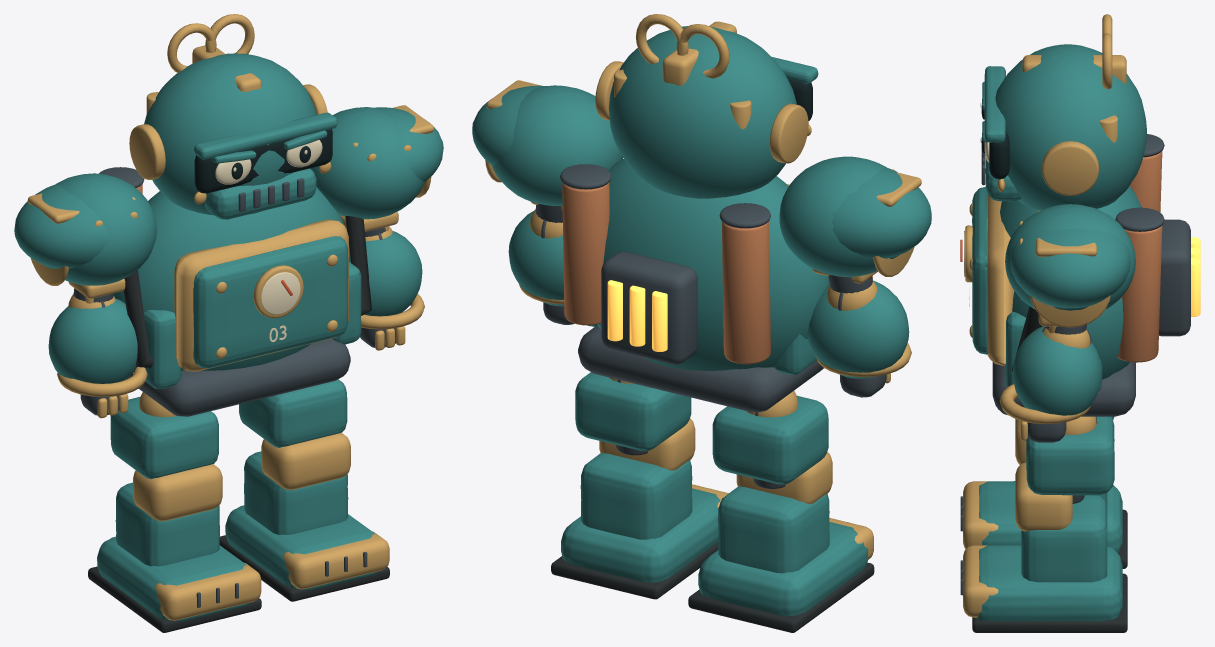
Rendered from boiler_knight.t4.glb.
3 views of the same model, side by side, from view 1: azimuth 30°, elevation 25°; view 2: azimuth 150°, elevation 25°; view 3: azimuth 270°, elevation 25° (orthographic). The views are drawn at different scales.
Parts seen in each view (by area): view 1: slot_torso__clay_petrol_enamel__clay, slot_head__clay_petrol_enamel__clay, slot_legL__clay_petrol_enamel__clay, slot_legR__clay_petrol_enamel__clay, slot_armL__clay_petrol_enamel__clay, slot_armR__clay_petrol_enamel__clay, slot_torso__forged_bluelead_steel__protected, slot_legL__worn_warm_brass__protected, slot_legR__worn_warm_brass__protected, slot_torso__worn_warm_brass__protected, armL_elbow__clay_petrol_enamel__clay, slot_head__worn_warm_brass__protected (+12 smaller); view 2: slot_legL__clay_petrol_enamel__clay, slot_head__clay_petrol_enamel__clay, slot_legR__clay_petrol_enamel__clay, slot_torso__clay_petrol_enamel__clay, slot_torso__forged_bluelead_steel__protected, slot_armL__clay_petrol_enamel__clay, slot_torso__burnished_copper__protected, slot_armR__clay_petrol_enamel__clay, slot_head__worn_warm_brass__protected, armL_elbow__clay_petrol_enamel__clay, armR_elbow__clay_petrol_enamel__clay, slot_legL__worn_warm_brass__protected (+9 smaller); view 3: slot_legR__clay_petrol_enamel__clay, slot_head__clay_petrol_enamel__clay, slot_armR__clay_petrol_enamel__clay, slot_torso__forged_bluelead_steel__protected, slot_torso__clay_petrol_enamel__clay, armR_elbow__clay_petrol_enamel__clay, slot_torso__burnished_copper__protected, slot_head__worn_warm_brass__protected, slot_legR__worn_warm_brass__protected, slot_torso__worn_warm_brass__protected, slot_legL__clay_petrol_enamel__clay, slot_armR__worn_warm_brass__protected (+8 smaller).
Part boxes in pixels (x1,y1,x2,y2): slot_torso__clay_petrol_enamel__clay: (113,187,361,388); slot_head__clay_petrol_enamel__clay: (144,53,337,219); slot_legL__clay_petrol_enamel__clay: (97,396,249,621); slot_legR__clay_petrol_enamel__clay: (225,379,377,590); slot_armL__clay_petrol_enamel__clay: (14,173,156,285); slot_armR__clay_petrol_enamel__clay: (310,107,443,219); slot_torso__forged_bluelead_steel__protected: (99,167,350,416); slot_legL__worn_warm_brass__protected: (133,392,261,620); slot_legR__worn_warm_brass__protected: (261,432,389,589); slot_torso__worn_warm_brass__protected: (174,219,348,371); armL_elbow__clay_petrol_enamel__clay: (48,298,137,383); slot_head__worn_warm_brass__protected: (129,14,331,204); slot_legL__clay_petrol_enamel__clay: (698,395,868,615); slot_head__clay_petrol_enamel__clay: (608,26,818,198); slot_legR__clay_petrol_enamel__clay: (561,372,720,582); slot_torso__clay_petrol_enamel__clay: (587,159,829,374); slot_torso__forged_bluelead_steel__protected: (560,164,823,412); slot_armL__clay_petrol_enamel__clay: (779,156,931,277); slot_torso__burnished_copper__protected: (562,182,770,364); slot_armR__clay_petrol_enamel__clay: (472,85,623,205); slot_head__worn_warm_brass__protected: (595,14,811,163); armL_elbow__clay_petrol_enamel__clay: (807,280,909,378); armR_elbow__clay_petrol_enamel__clay: (508,211,564,306); slot_legL__worn_warm_brass__protected: (736,390,873,559); slot_legR__clay_petrol_enamel__clay: (974,416,1122,621); slot_head__clay_petrol_enamel__clay: (982,44,1146,210); slot_armR__clay_petrol_enamel__clay: (1005,204,1135,310); slot_torso__forged_bluelead_steel__protected: (992,134,1190,416); slot_torso__clay_petrol_enamel__clay: (972,186,1141,391); armR_elbow__clay_petrol_enamel__clay: (1012,326,1101,415); slot_torso__burnished_copper__protected: (1117,151,1162,362); slot_head__worn_warm_brass__protected: (997,14,1126,195); slot_legR__worn_warm_brass__protected: (963,416,1096,617); slot_torso__worn_warm_brass__protected: (965,194,1014,365); slot_legL__clay_petrol_enamel__clay: (979,416,1122,552); slot_armR__worn_warm_brass__protected: (1018,210,1110,348).
Bounding box in the file's own units: 2.54 × 3.15 × 1.25.
